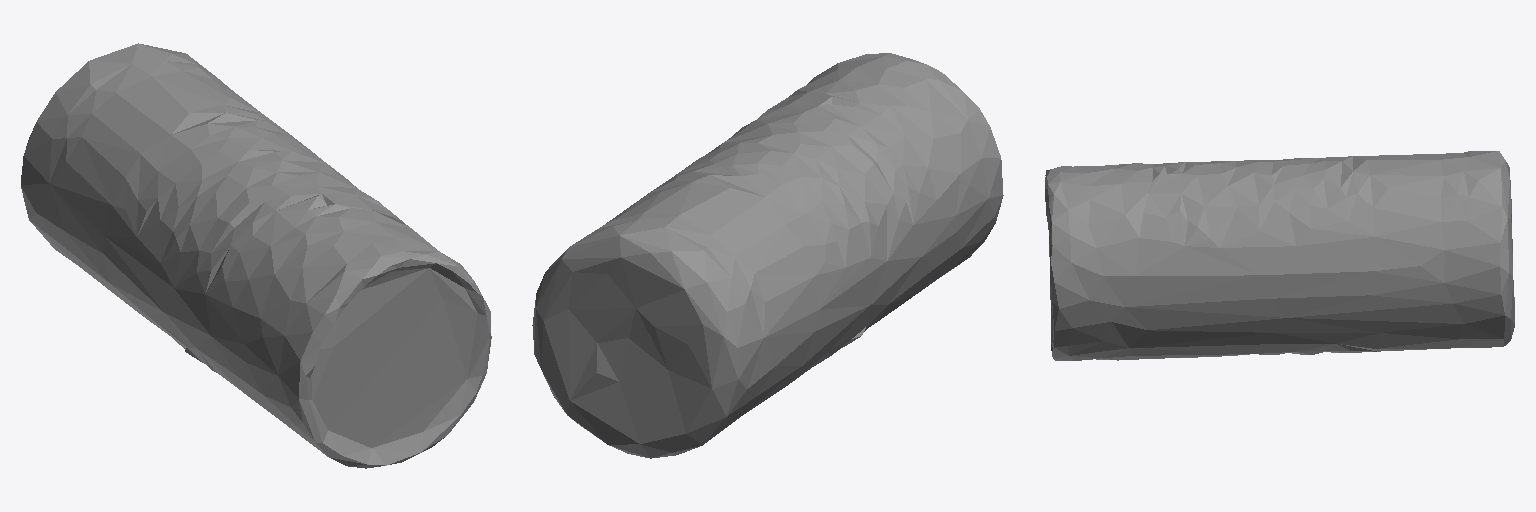
The robot description file, URDF, robot "cube.urdf":
<?xml version="0.0" ?> 
<robot name="cube.urdf"> 
<link name="legobrick"> 
<contact> 
<lateral_friction value="1.0"/>
<rolling_friction value="0.0"/>
<contact_cfm value="0.0"/>
<contact_erp value="1.0"/>
</contact> 
<inertial> 
<origin rpy="0 0 0" xyz="0.0 0.0 0.0"/> 
<mass value="0.1"/> 
<inertia ixx="1" ixy="0" ixz="0" iyy="1" iyz="0" izz="1"/> 
</inertial> 
<visual> 
<origin rpy="1.570796 0 0" xyz="0.00113271144278607 0.0060543631840795946 -0.0014327213930348263"/> 
<geometry> 
<mesh filename="YellowSaltCylinderSmall_800_tex.obj" scale="1 1 1"/> 
</geometry> 
<material name="yellow"> 
<color rgba="0.6 0.6 0.6 1"/> 
</material> 
</visual> 
<collision> 
<origin rpy="1.570796 0 0" xyz="0.00113271144278607 0.0060543631840795946 -0.0014327213930348263"/> 
<geometry> 
<mesh filename="YellowSaltCylinderSmall_800_tex_col.obj" scale="1 1 1"/> 
</geometry> 
</collision> 
</link> 
</robot>

--- What the picture shows (computed from the rendered views, not written in the file) ---
3 views of the same robot in one strip: view 1: azimuth 30°, elevation 25°; view 2: azimuth 150°, elevation 25°; view 3: azimuth 270°, elevation 25° (orthographic).
Model cube.urdf with 1 links and 0 joints (none), rooted at legobrick, posed every joint at zero.
Visible links, largest first — view 1: legobrick; view 2: legobrick; view 3: legobrick.
Boxes of the visible links, left/top/right/bottom form: legobrick: left=21, top=43, right=491, bottom=468; legobrick: left=532, top=53, right=1003, bottom=458; legobrick: left=1045, top=151, right=1514, bottom=360.
Bounding box of the posed robot: 0.0432 × 0.1013 × 0.045 m (x, y, z).
Meshes: 1 distinct files referenced, 1 mesh visuals loaded (1 OBJ).